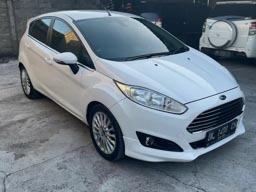plat: (205, 121, 241, 146)
